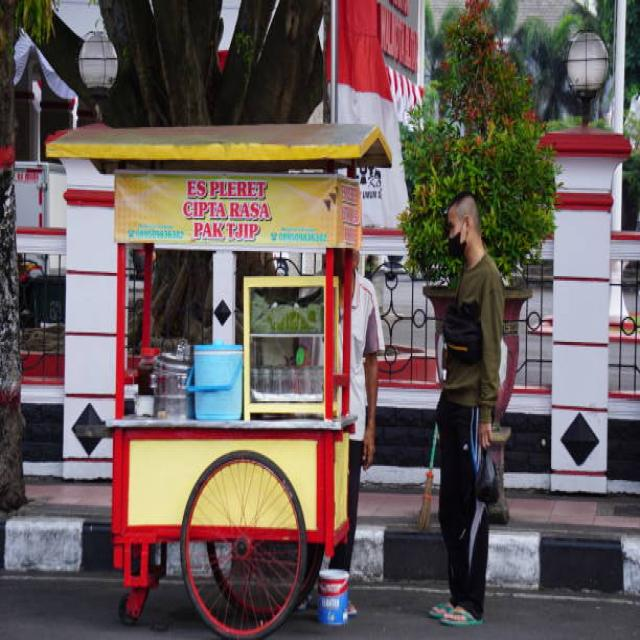Emperan: (38, 117, 402, 640)
